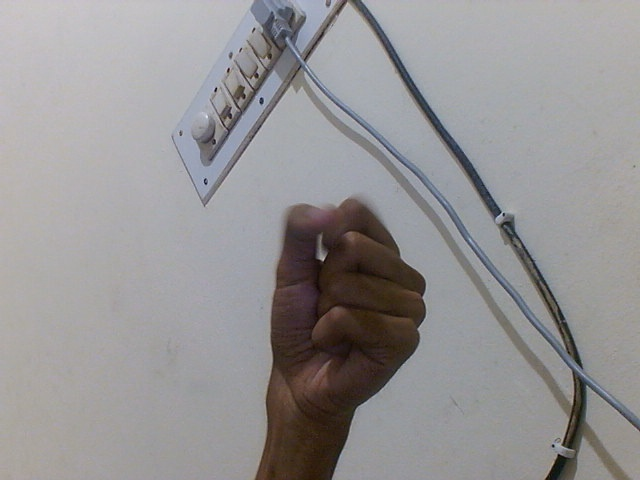hand: (255, 193, 429, 431)
